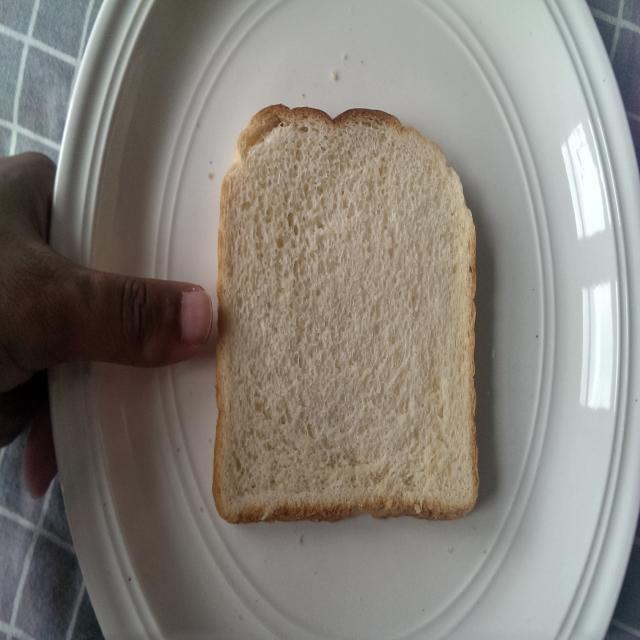bread: (212, 99, 501, 551)
